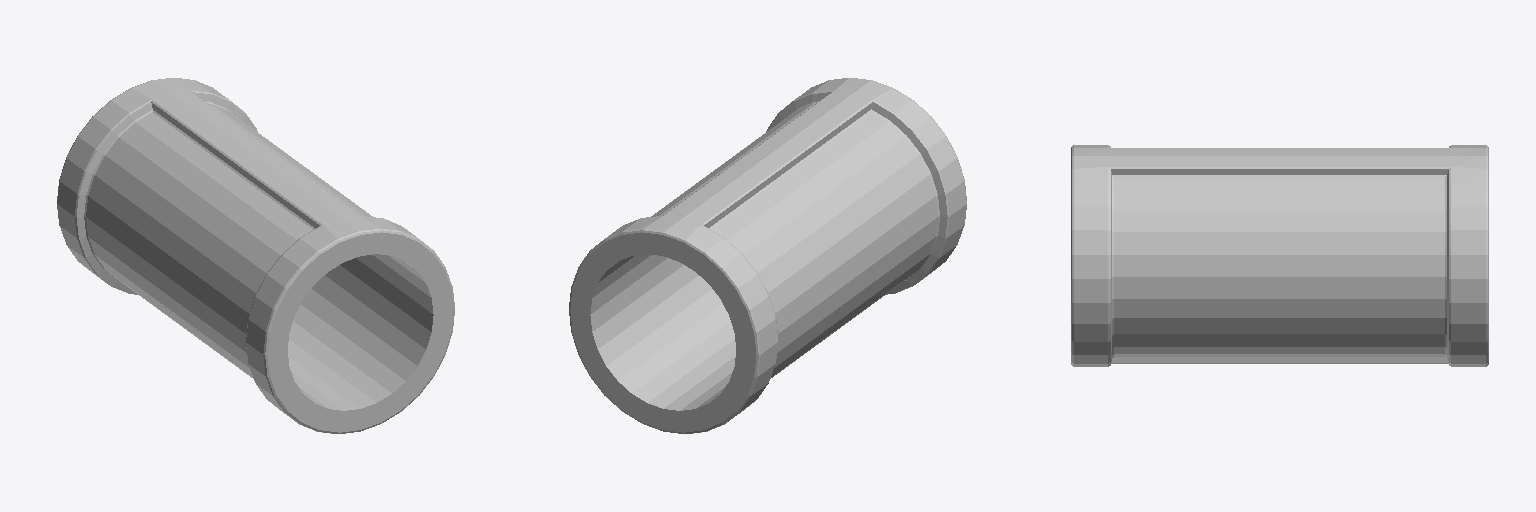
The model's file is TUBESLEEVE.obj.
3 renders of one model, left to right at view 1: azimuth 30°, elevation 25°; view 2: azimuth 150°, elevation 25°; view 3: azimuth 270°, elevation 25°, orthographic.
Parts seen in each view (by area): view 1: TUBESLEEVE; view 2: TUBESLEEVE; view 3: TUBESLEEVE.
Boxes of the visible parts, x1,y1,x2,y2 form: TUBESLEEVE: [57, 78, 454, 433]; TUBESLEEVE: [569, 78, 966, 433]; TUBESLEEVE: [1071, 145, 1488, 366].
Bounding box in the file's own units: 4.17 × 4.17 × 7.89.